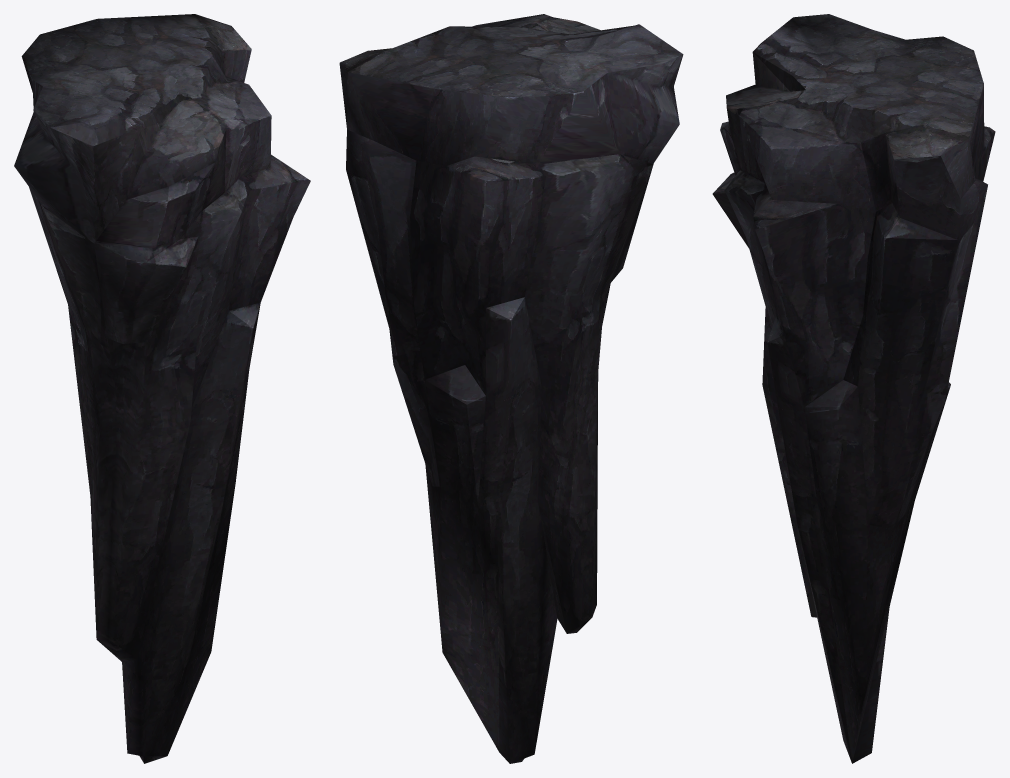
Rendered from ruisi_shanti01.FBX.
3 renders of one model, left to right at view 1: azimuth 30°, elevation 25°; view 2: azimuth 150°, elevation 25°; view 3: azimuth 270°, elevation 25°, orthographic. The views are drawn at different scales.
Visible parts, largest first — view 1: ruisi_shanti01; view 2: ruisi_shanti01; view 3: ruisi_shanti01.
Part boxes in pixels (x1,y1,x2,y2): ruisi_shanti01: (14,14,310,763); ruisi_shanti01: (339,14,683,763); ruisi_shanti01: (712,14,995,763).
Size of the model in its own units: 190 by 458 by 172.
